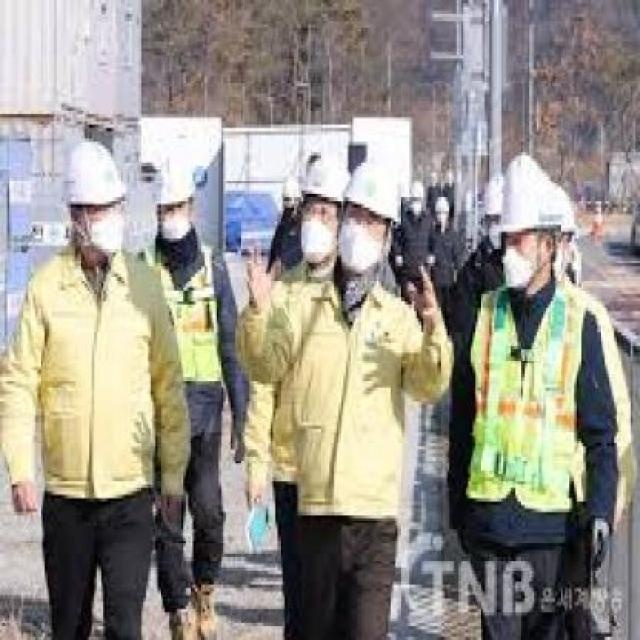Arnes_seguridad: (486, 285, 571, 504), (154, 246, 214, 386)
